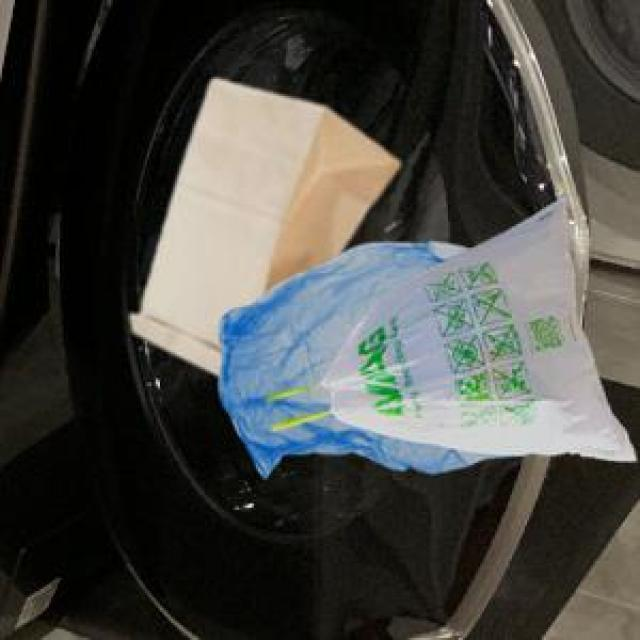paper: (126, 75, 395, 371)
